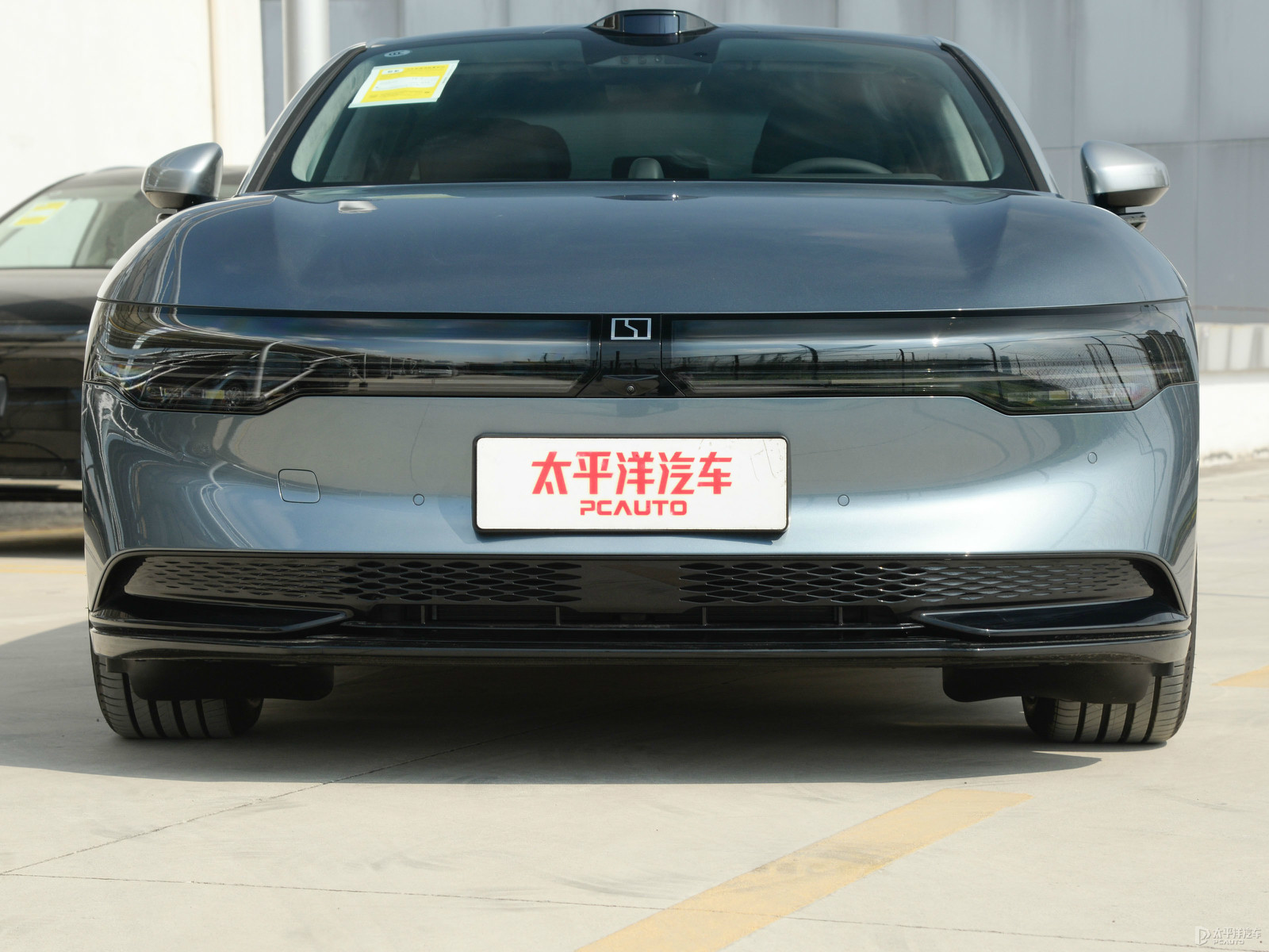ZEEKR: (611, 318, 651, 340)
